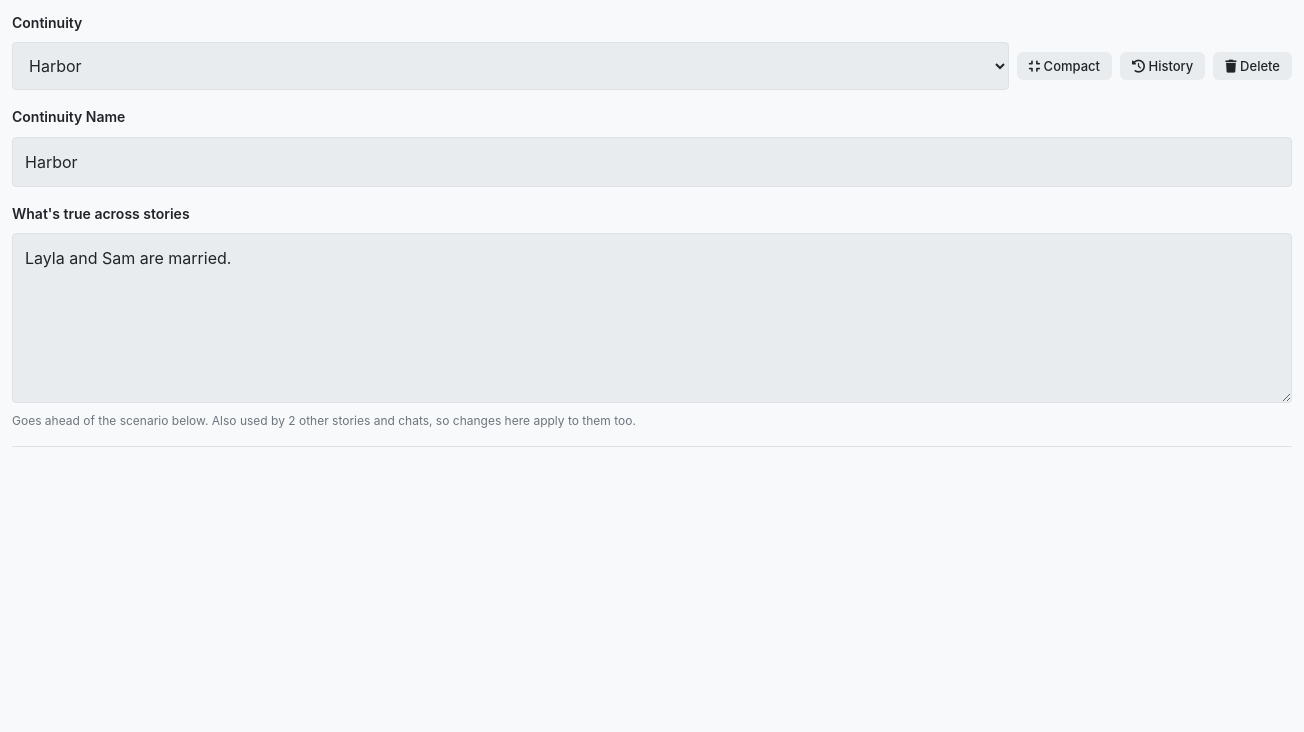
ContinuityPicker › restores an earlier version from History
What coordinates should you click on to do the following:
click the button "History"
I would click on:
 (1163, 66)
Its box is x1=1120 y1=52 x2=1205 y2=80.
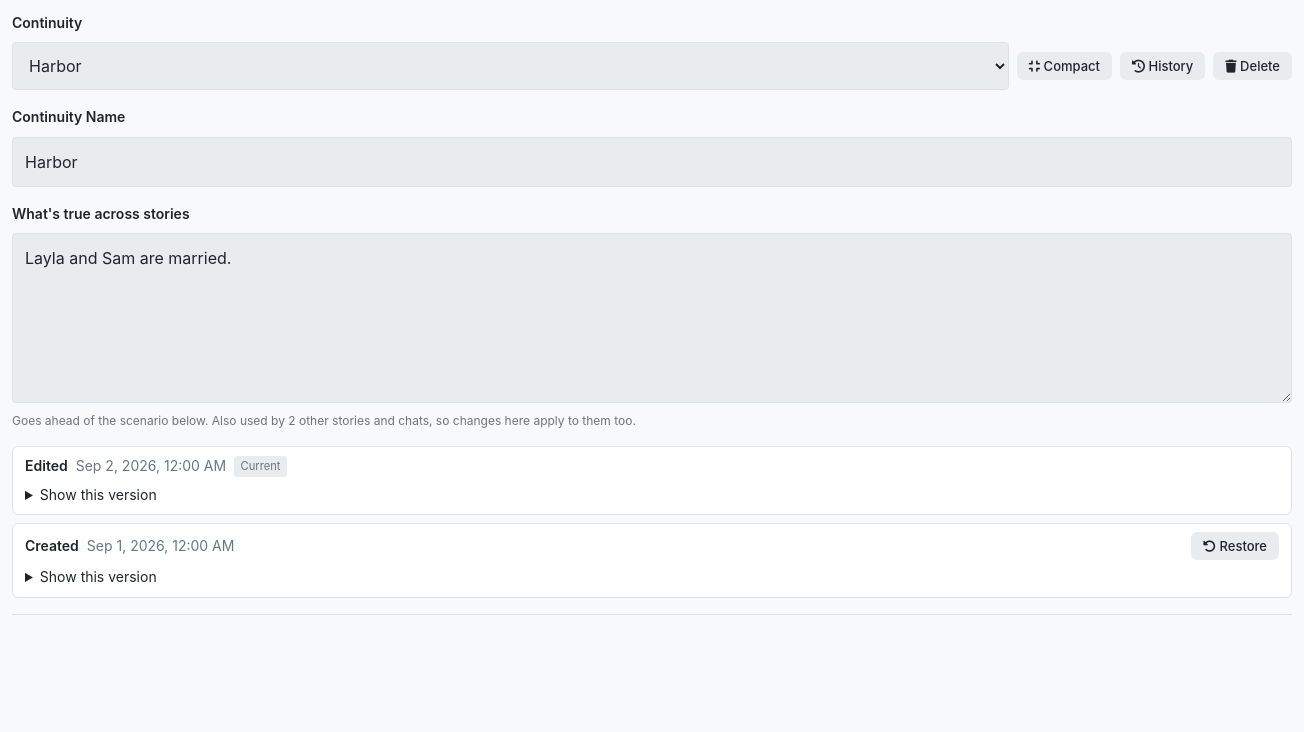
What coordinates should you click on to do the following:
click the button "Restore"
I would click on:
 (1235, 546)
Its box is x1=1191 y1=532 x2=1279 y2=560.
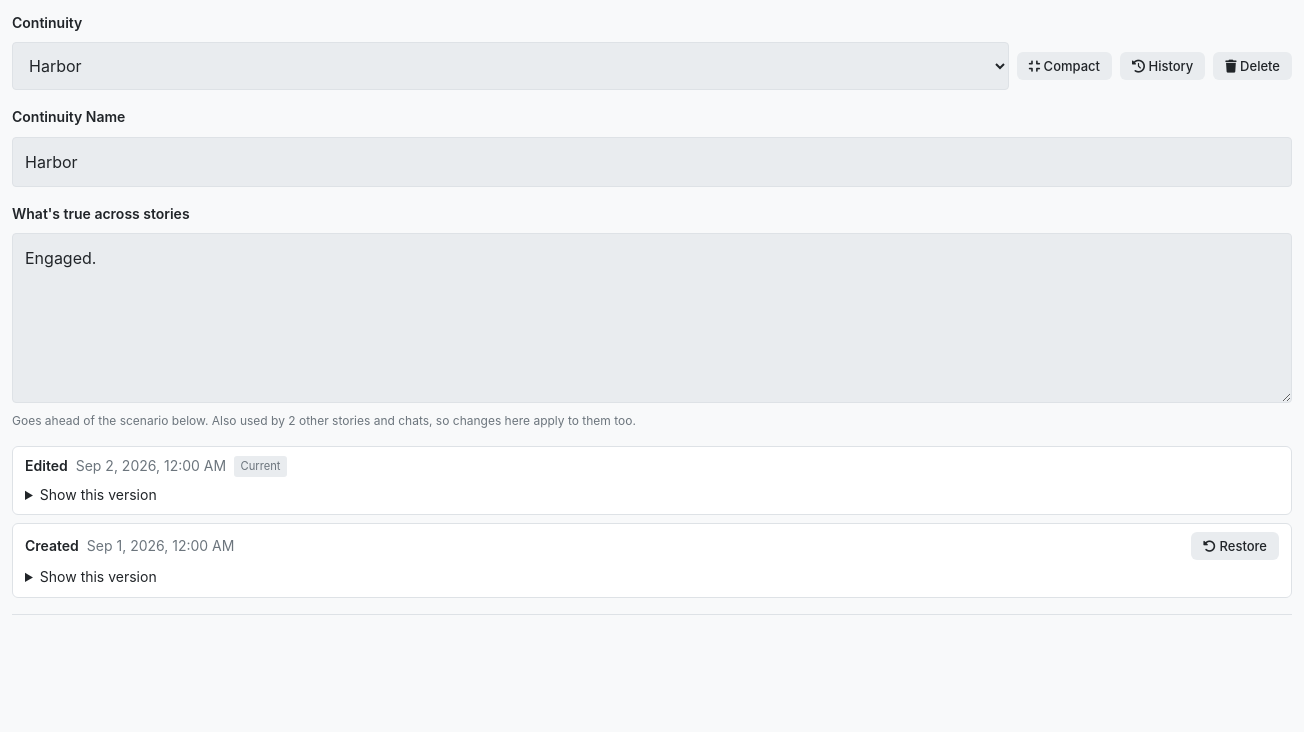
Result: the text box with id "continuityContent" holds "Engaged." at x1=12 y1=233 x2=1292 y2=403
